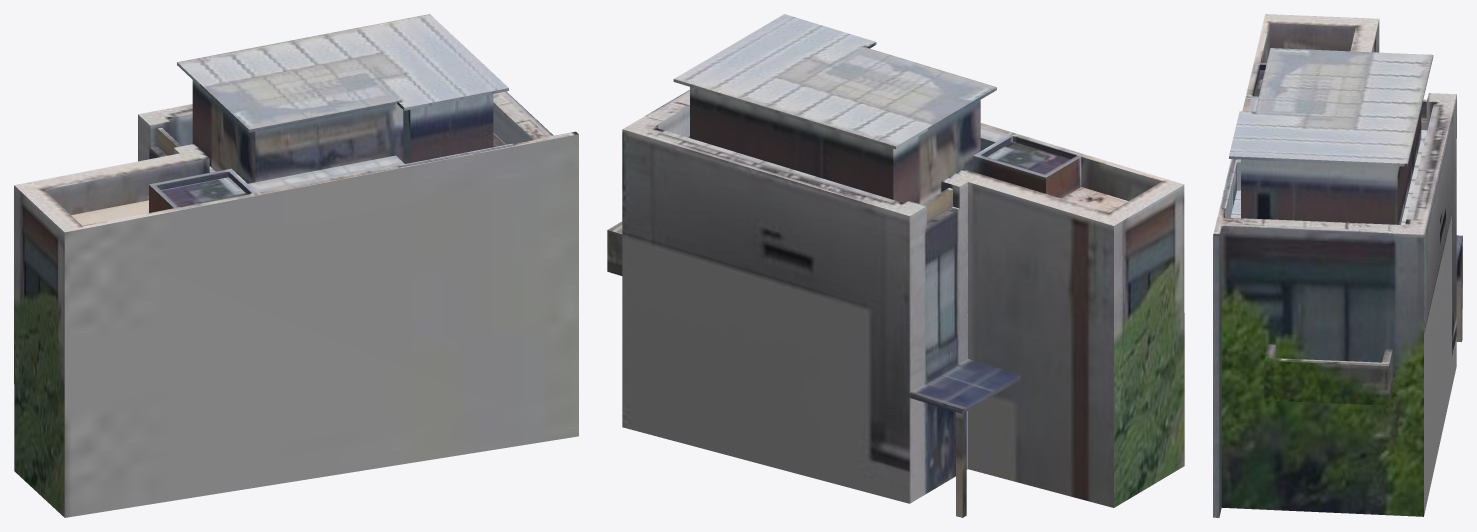
The picture shows the model from 3 angles, left to right: view 1: azimuth 30°, elevation 25°; view 2: azimuth 150°, elevation 25°; view 3: azimuth 270°, elevation 25°; orthographic projection. The views are drawn at different scales.
Visible parts, largest first — view 1: B286354033001062A0; view 2: B286354033001062A0; view 3: B286354033001062A0.
Boxes of the visible parts, x1,y1,x2,y2 form: B286354033001062A0: (14, 14, 578, 517); B286354033001062A0: (607, 14, 1184, 517); B286354033001062A0: (1213, 14, 1462, 517).
Bounding box in the file's own units: 16.55 × 10.89 × 7.39.
Materials: 1 (1 with a texture image).
